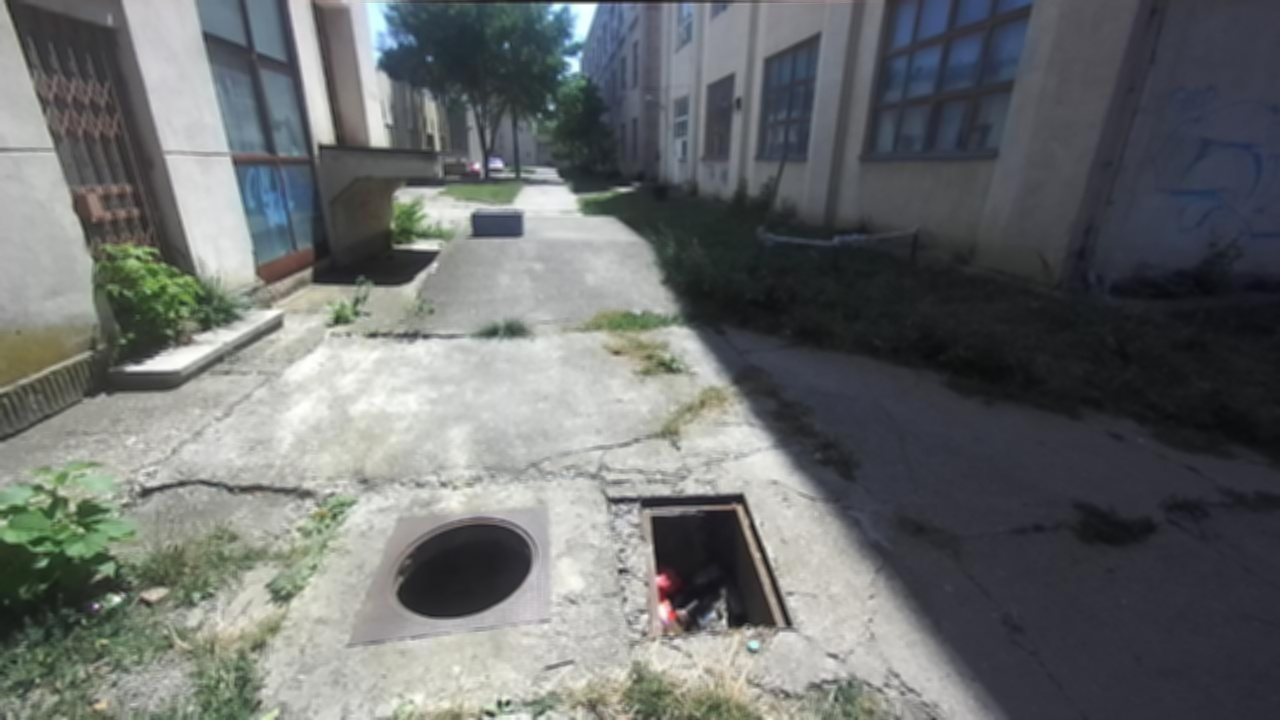drain: (634, 488, 803, 636), (380, 511, 546, 622)
